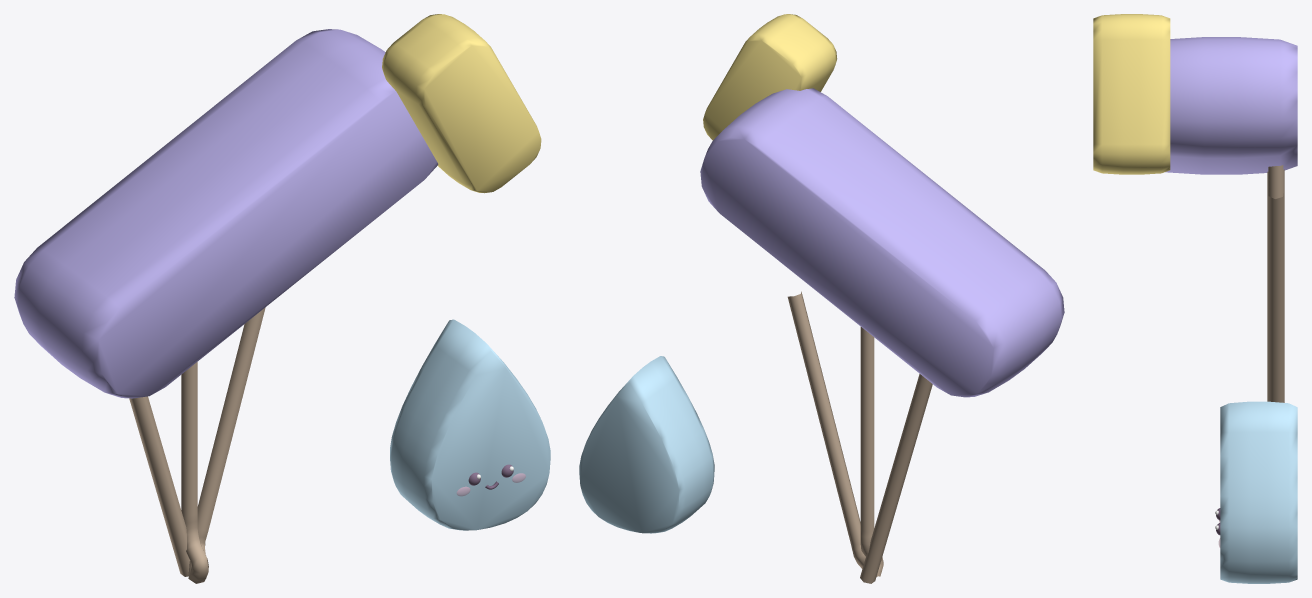
Rendered from decor_6_classic.glb.
3 renders of one model, left to right at view 1: azimuth 30°, elevation 25°; view 2: azimuth 150°, elevation 25°; view 3: azimuth 270°, elevation 25°, orthographic. The views are drawn at different scales.
Parts seen in each view (by area): view 1: decor_6_classic; view 2: decor_6_classic; view 3: decor_6_classic.
Boxes of the visible parts, x1,y1,x2,y2 form: decor_6_classic: (14,14,550,583); decor_6_classic: (579,14,1064,583); decor_6_classic: (1093,14,1297,583).
Bounding box in the file's own units: 9.33 × 9.9 × 3.53.
